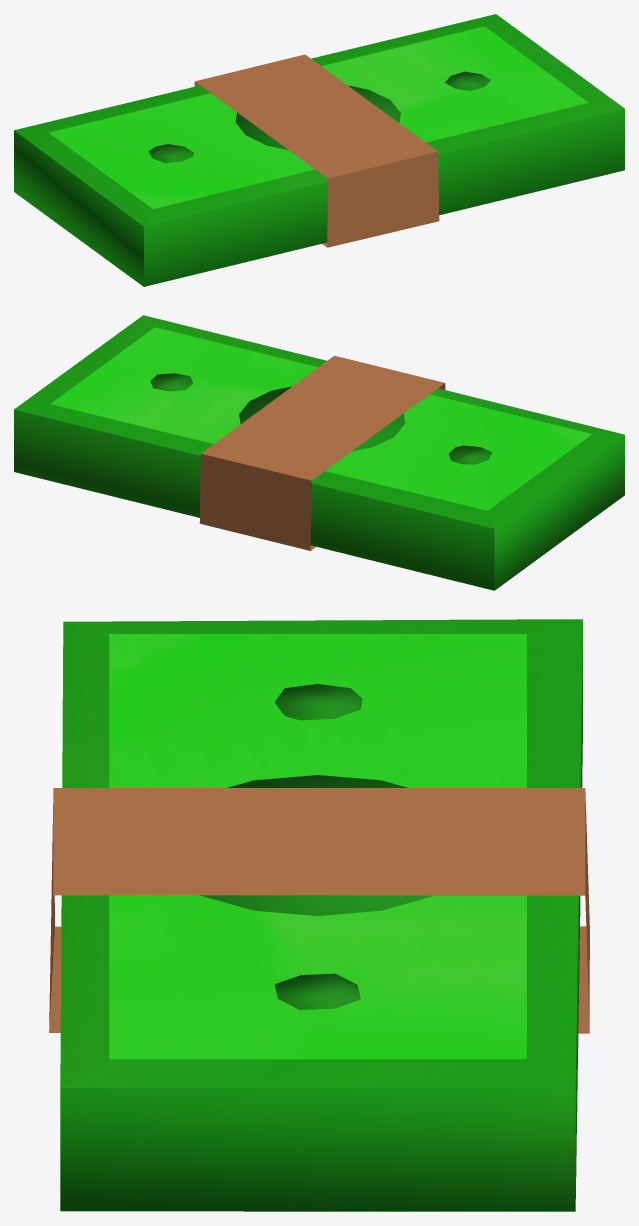
File: moneyrevrev.fbx
3 renders of one model, top to bottom at view 1: azimuth 30°, elevation 25°; view 2: azimuth 150°, elevation 25°; view 3: azimuth 270°, elevation 25°, orthographic. The views are drawn at different scales.
Visible parts, largest first — view 1: Dollar Low; view 2: Dollar Low; view 3: Dollar Low.
Part boxes in pixels (<box>): Dollar Low: <box>14,14,624,286</box>; Dollar Low: <box>14,315,624,590</box>; Dollar Low: <box>49,619,589,1211</box>.
Bounding box in the file's own units: 59.51 × 8.24 × 29.01.
2 materials, 1 textured.
